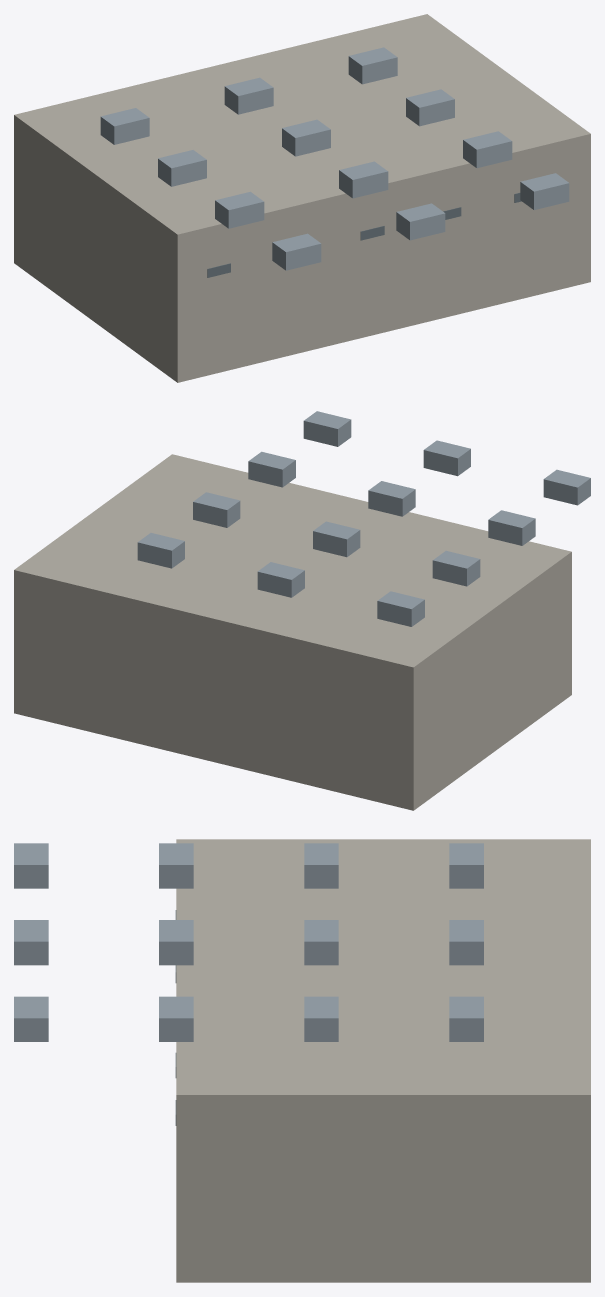
The picture shows the model from 3 angles, top to bottom: view 1: azimuth 30°, elevation 25°; view 2: azimuth 150°, elevation 25°; view 3: azimuth 270°, elevation 25°; orthographic projection. The views are drawn at different scales.
Visible parts, largest first — view 1: worldgen; view 2: worldgen; view 3: worldgen.
Part boxes in pixels (<box>): worldgen: <box>14,14,590,382</box>; worldgen: <box>14,411,590,810</box>; worldgen: <box>14,839,590,1282</box>.
Bounding box in the file's own units: 70 × 27 × 66.8.
